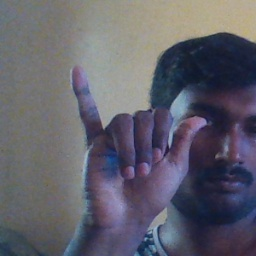J: (67, 64, 207, 219)
